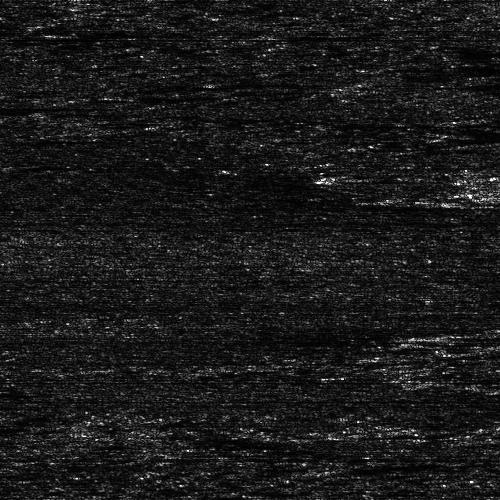object: (375, 333, 468, 340), (325, 176, 378, 181)
shadow: (0, 421, 60, 434), (0, 103, 69, 110), (422, 333, 482, 340), (352, 176, 412, 181), (0, 404, 27, 409)
